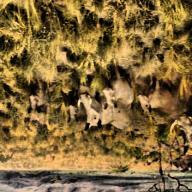boar: (72, 98, 156, 133), (137, 77, 181, 119), (98, 73, 131, 116), (25, 80, 54, 125), (175, 101, 192, 155), (63, 100, 81, 127)
